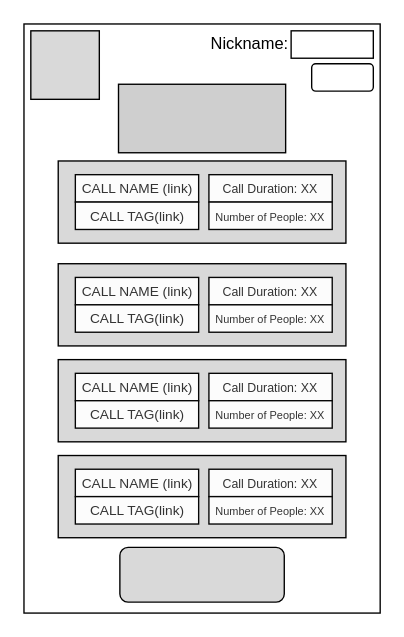
The diagram is 404 pixels wide and 637 high, and some of its shapes have lost their labels. The centre of each missing label's shape, as x and y in pixels:
"confirm" belongs at point (341, 76).
"LOAD MORE RECENT CALLS" belongs at point (201, 574).
"LOGO/ HOME" belongs at point (64, 64).
"RECENTLY STARTED CALLS" belongs at point (201, 118).
